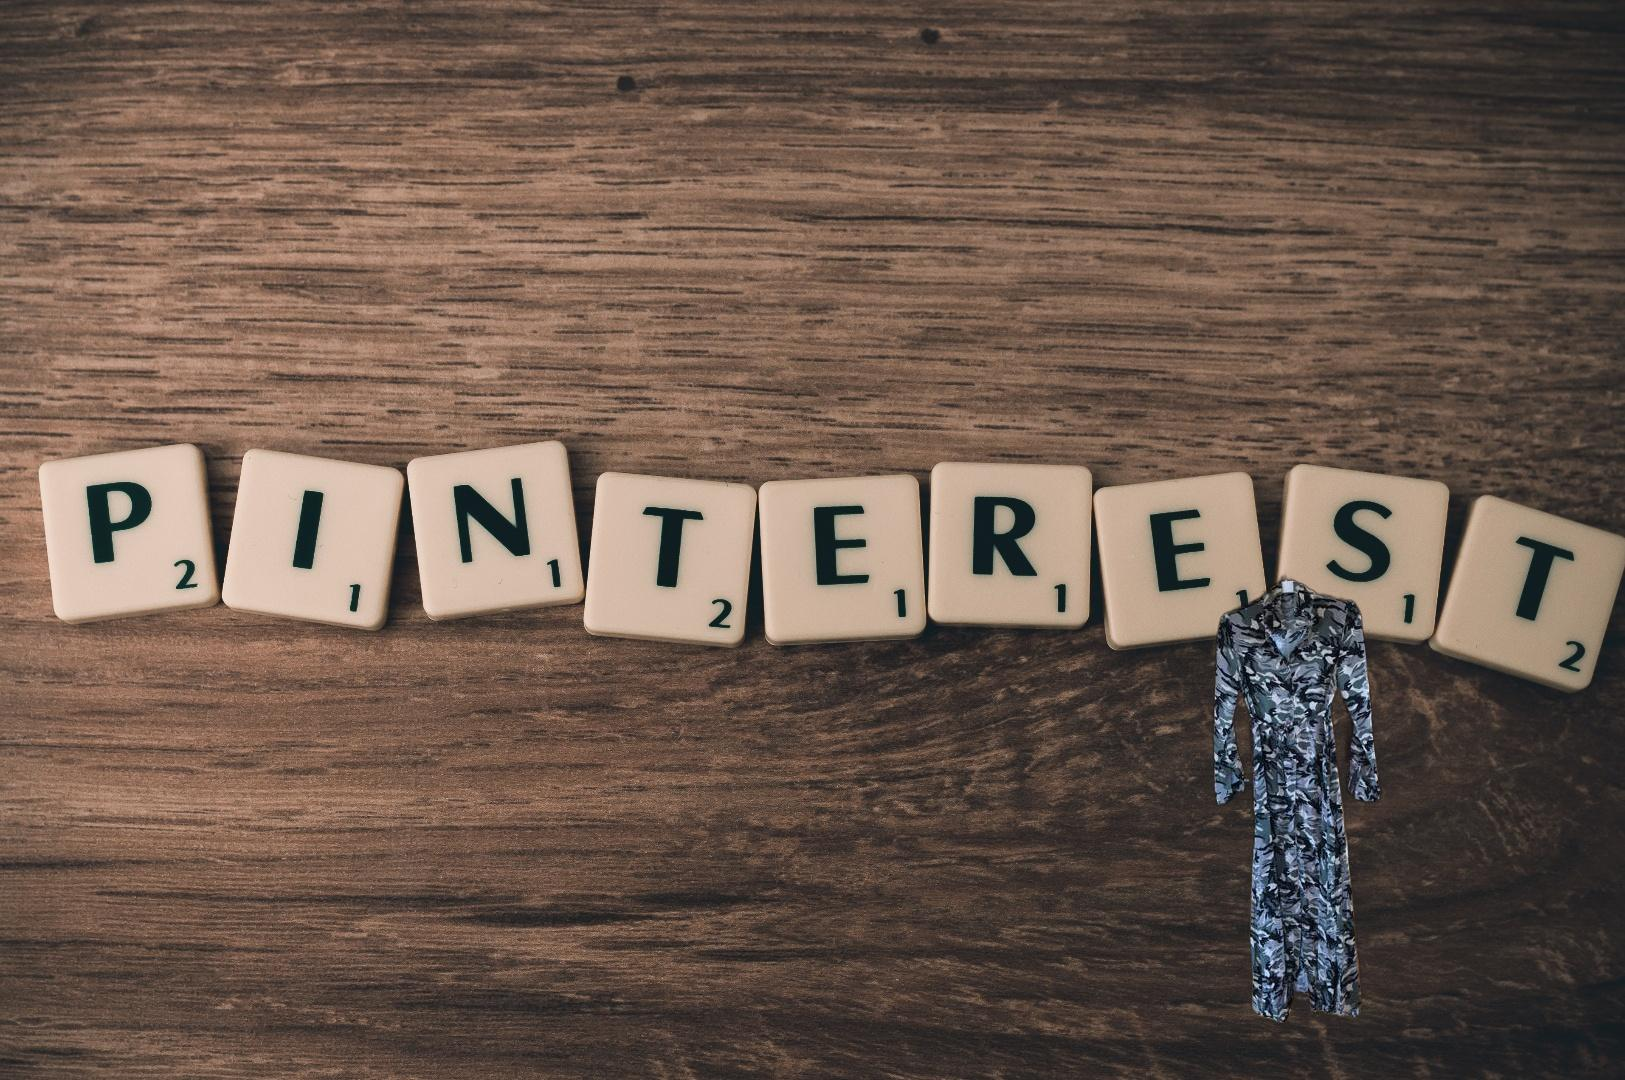clothes: (1209, 557, 1383, 1028)
